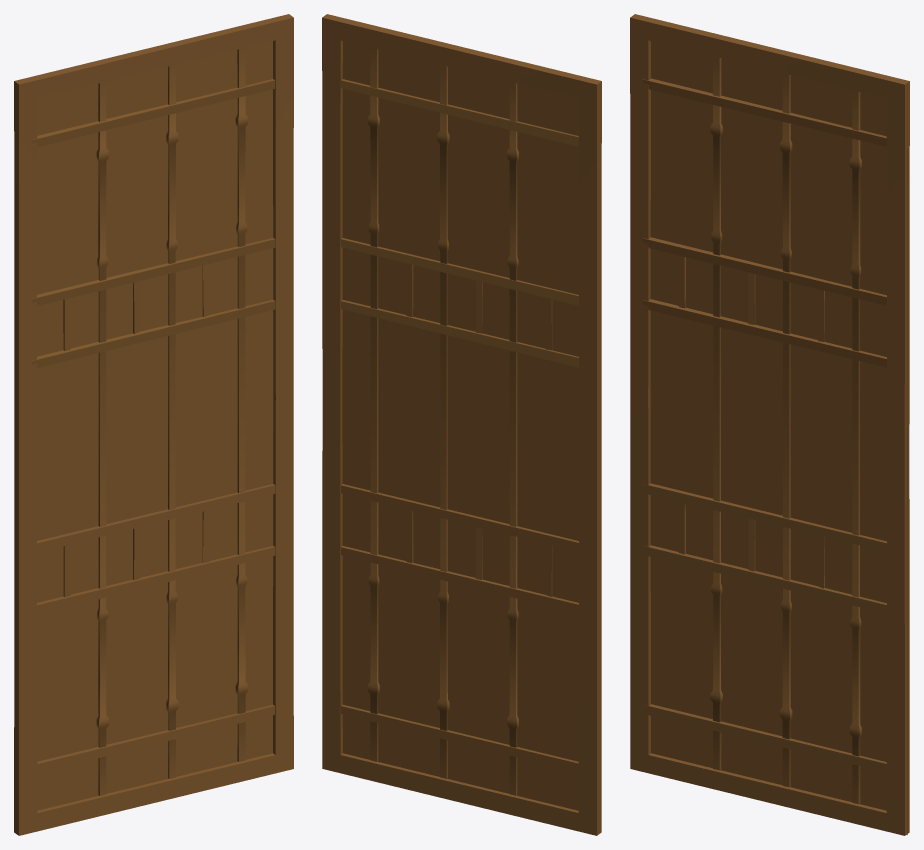
The model's file is SM_gatedoor.fbx.
The picture shows the model from 3 angles, left to right: view 1: azimuth 30°, elevation 25°; view 2: azimuth 150°, elevation 25°; view 3: azimuth 330°, elevation 25°; orthographic projection.
Visible parts, largest first — view 1: doortle_low.002; view 2: doortle_low.002; view 3: doortle_low.002.
Boxes of the visible parts, x1,y1,x2,y2 form: doortle_low.002: (14, 14, 293, 835); doortle_low.002: (322, 14, 601, 835); doortle_low.002: (630, 14, 909, 835).
Bounding box in the file's own units: 124 × 325 × 4.09.
